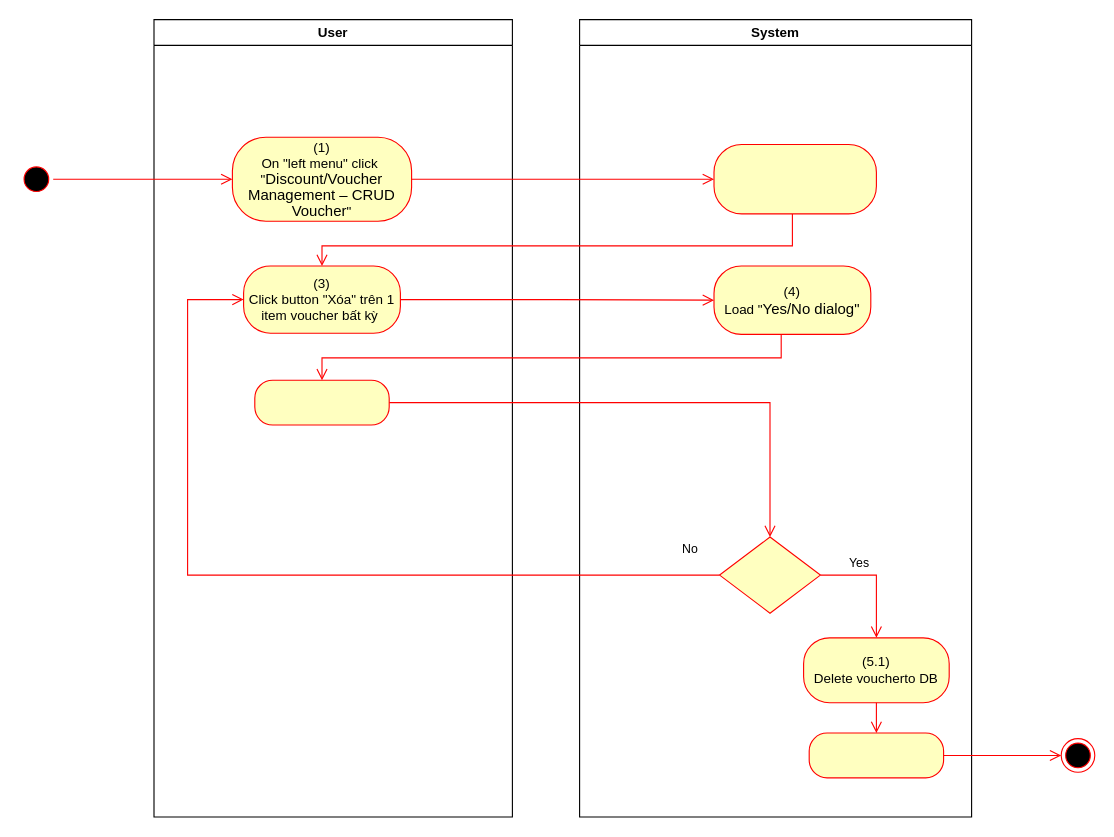
This 1114x837 diagram has some shape labels left out. The shapes that lost their labels are listed below. From the top down, each one's centre as x and y in pixels, then its label:
point 794,178: (2) Load " List Voucher (seller) " Screen
point 321,402: (5) Click "Yes" or "No" button
point 876,755: (6) Update UI
